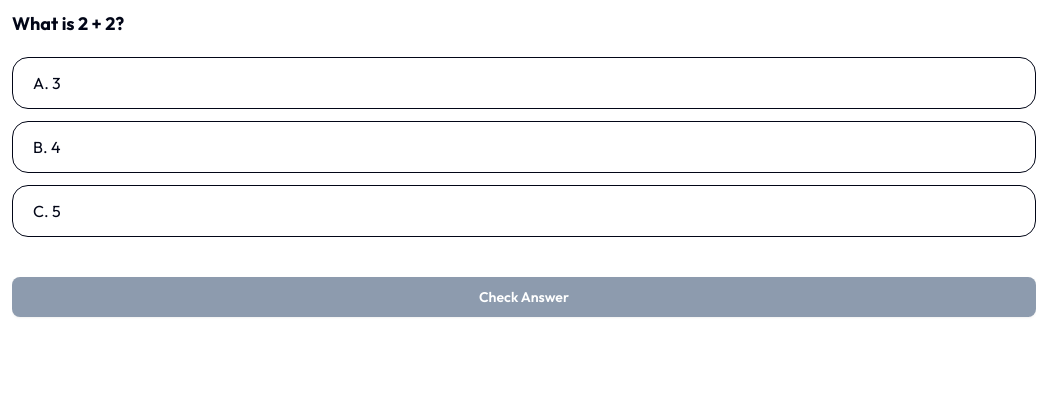
it: QuizInlineViewer › resets selection on Try Again
What coordinates should you click on to do the following:
click the button "A. 3"
I would click on:
 (39, 83)
Its box is x1=12 y1=57 x2=1036 y2=109.
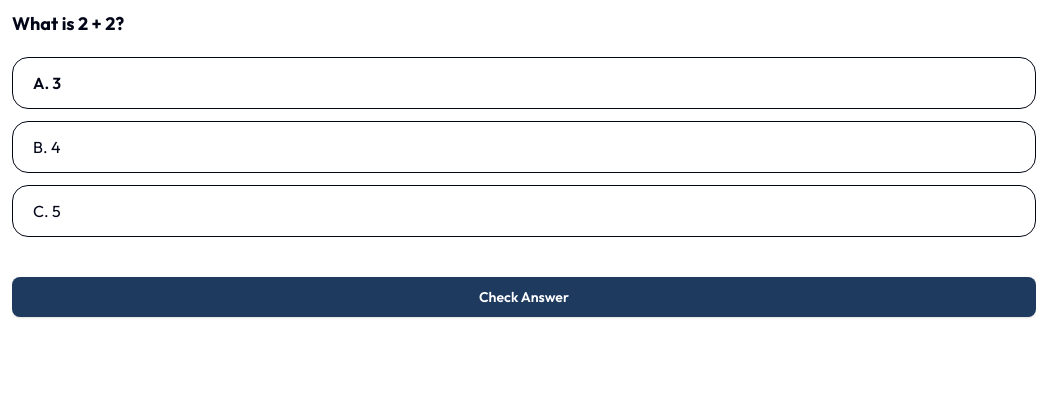
What coordinates should you click on to do the following:
click the button "Check Answer"
I would click on:
 (524, 297)
Its box is x1=12 y1=277 x2=1036 y2=317.
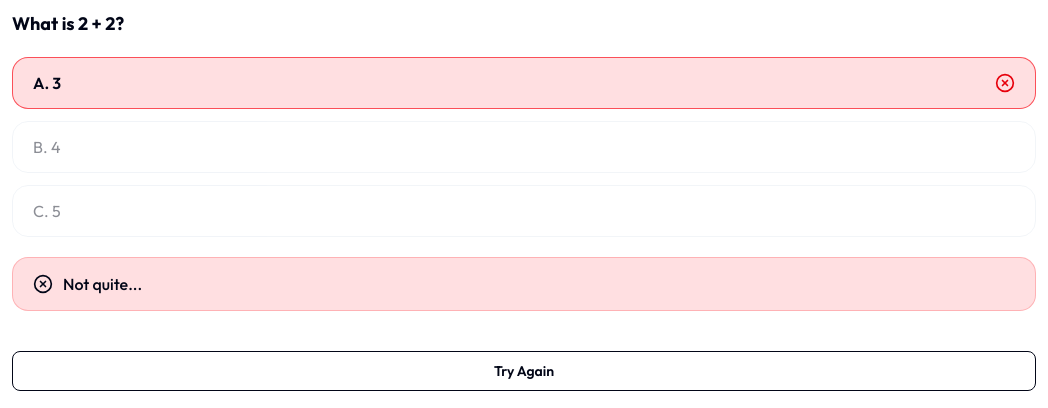
What coordinates should you click on to do the following:
click the button "Try Again"
I would click on:
 (524, 371)
Its box is x1=12 y1=351 x2=1036 y2=391.
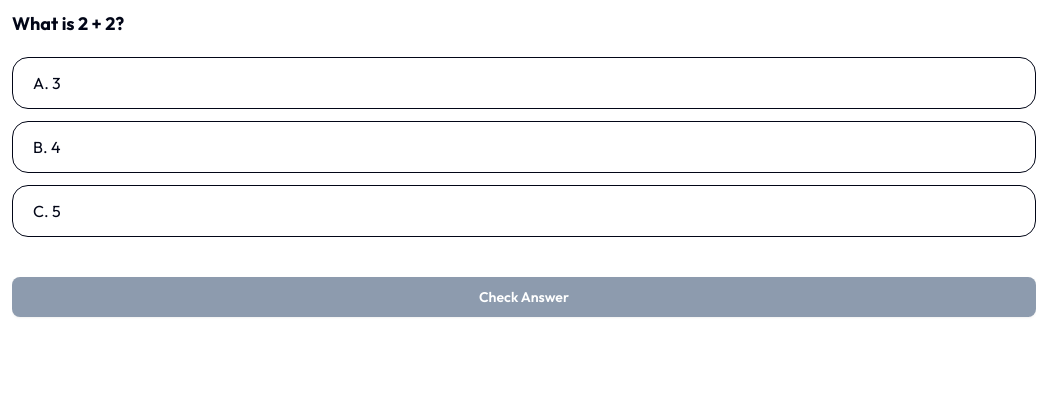
Expected: the button "Check Answer" is disabled, x1=12 y1=277 x2=1036 y2=317
